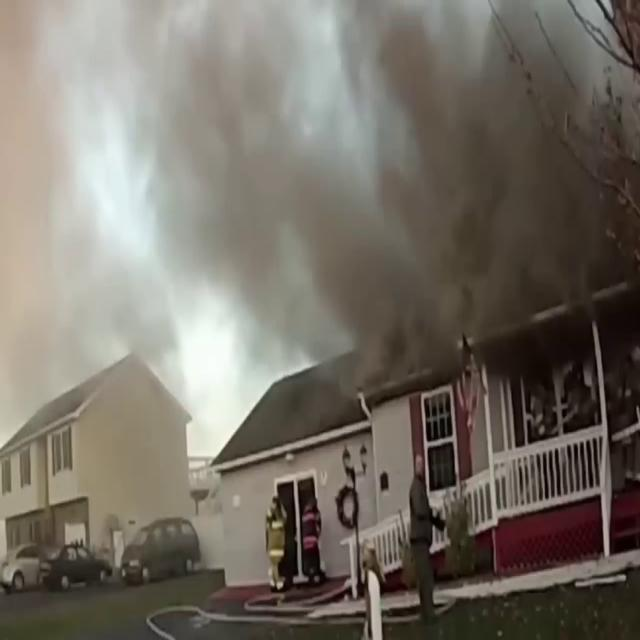Smoke: (82, 0, 635, 396)
